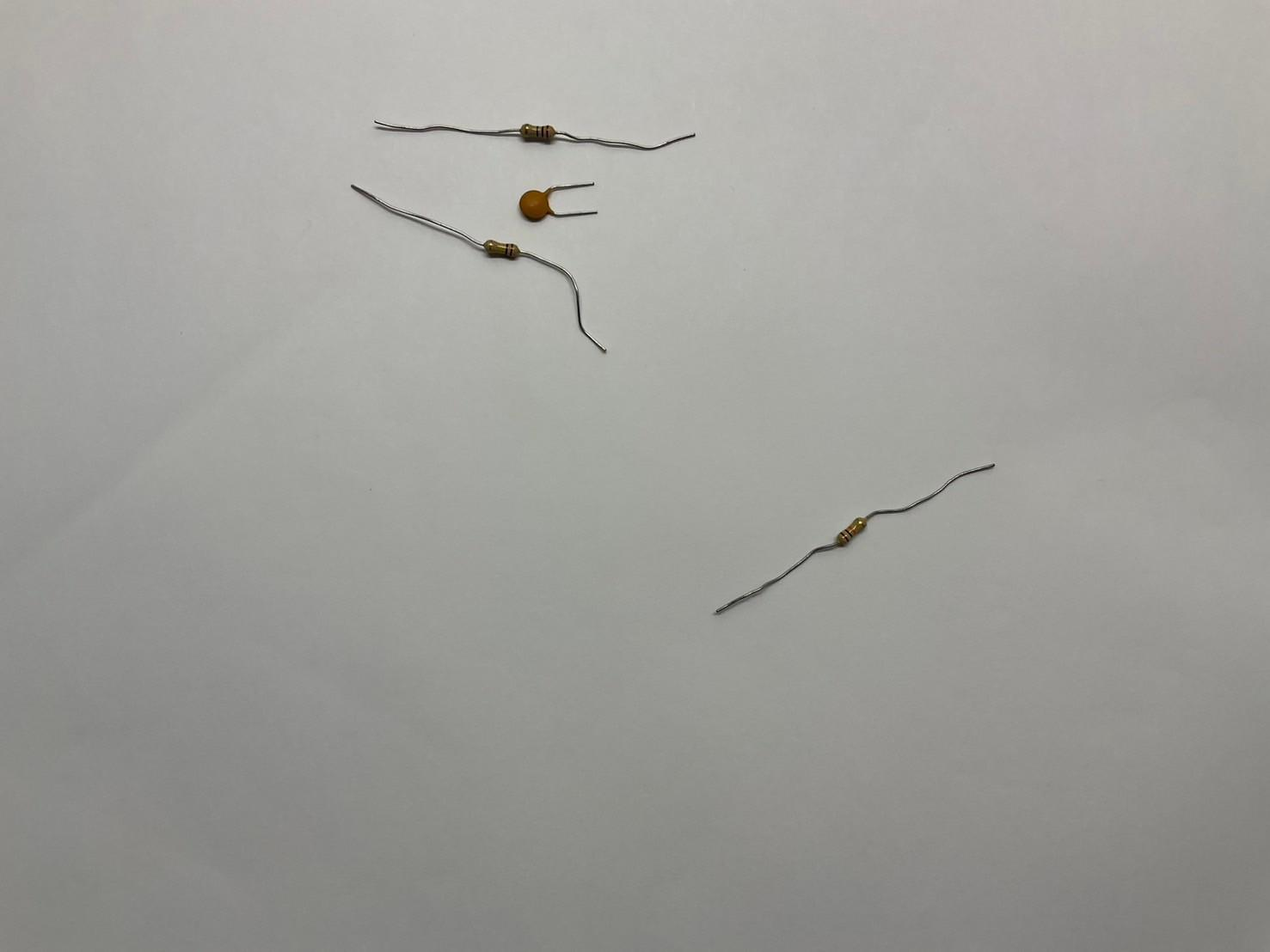resistor: (836, 517, 867, 546), (484, 239, 520, 258), (520, 123, 555, 140)
